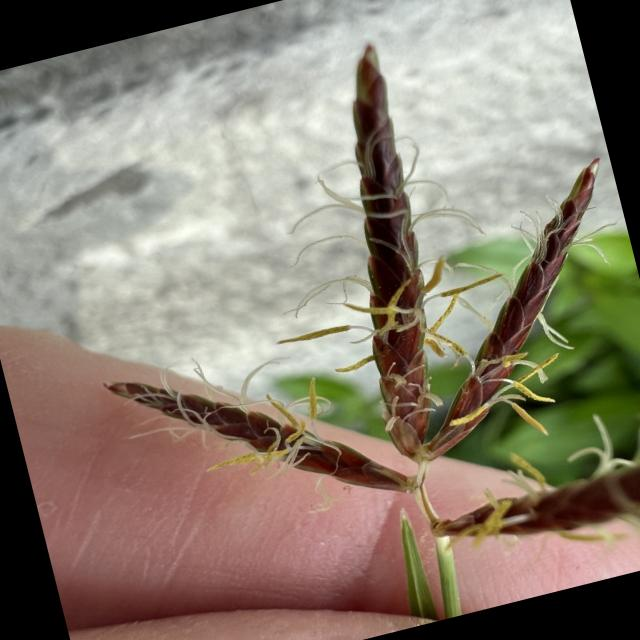cyperus: (21, 0, 640, 570)
